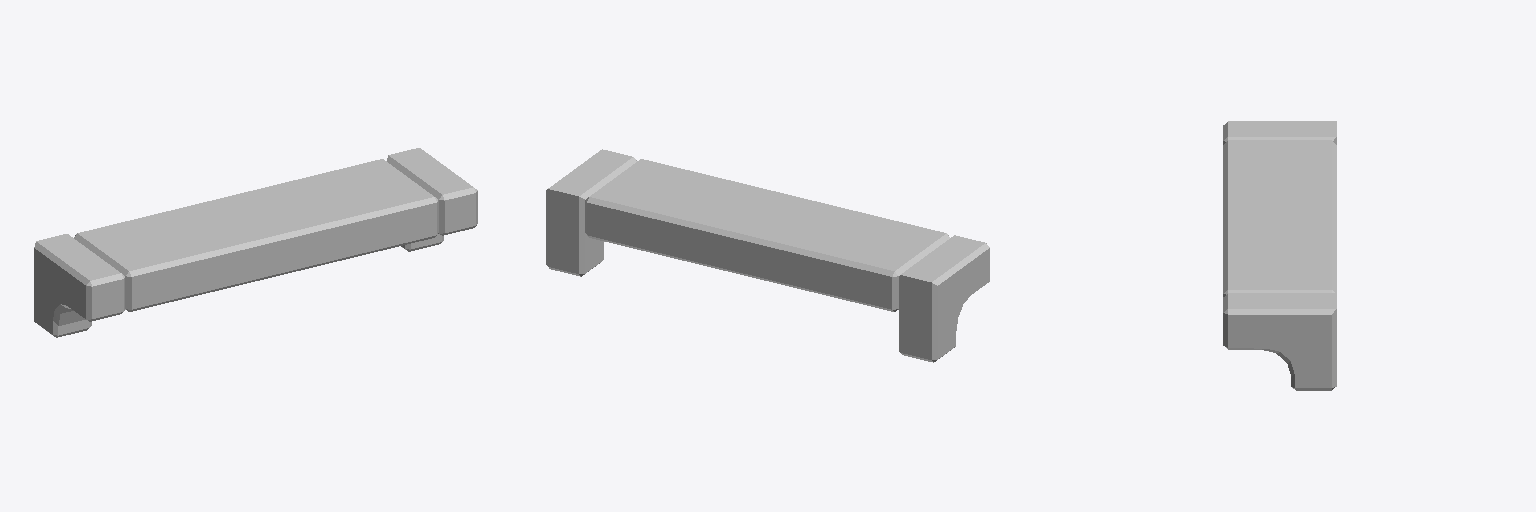
The model's file is shelf_A_big.obj.
3 renders of one model, left to right at view 1: azimuth 30°, elevation 25°; view 2: azimuth 150°, elevation 25°; view 3: azimuth 270°, elevation 25°, orthographic.
Parts seen in each view (by area): view 1: shelf_A_big_Cube.028; view 2: shelf_A_big_Cube.028; view 3: shelf_A_big_Cube.028.
Boxes of the visible parts, x1=… form: shelf_A_big_Cube.028: x1=34, y1=148, x2=477, y2=337; shelf_A_big_Cube.028: x1=546, y1=149, x2=989, y2=362; shelf_A_big_Cube.028: x1=1223, y1=121, x2=1336, y2=390.
Bounding box in the file's own units: 2 × 0.4 × 0.5.